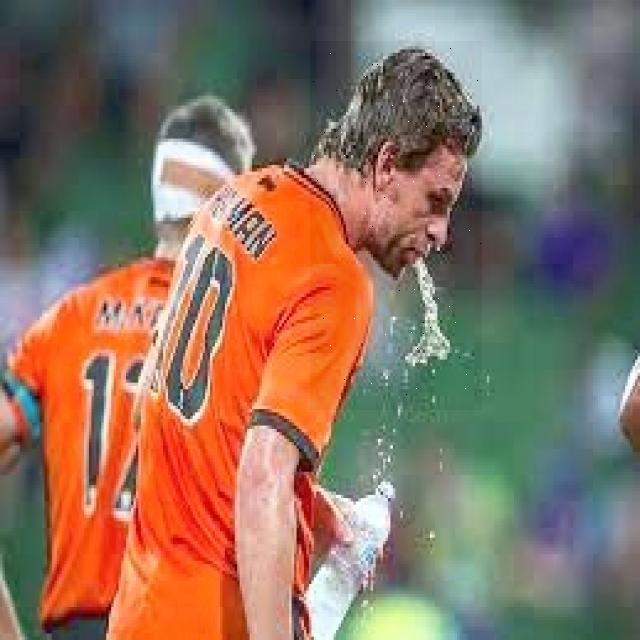Spitting: (310, 41, 482, 410)
